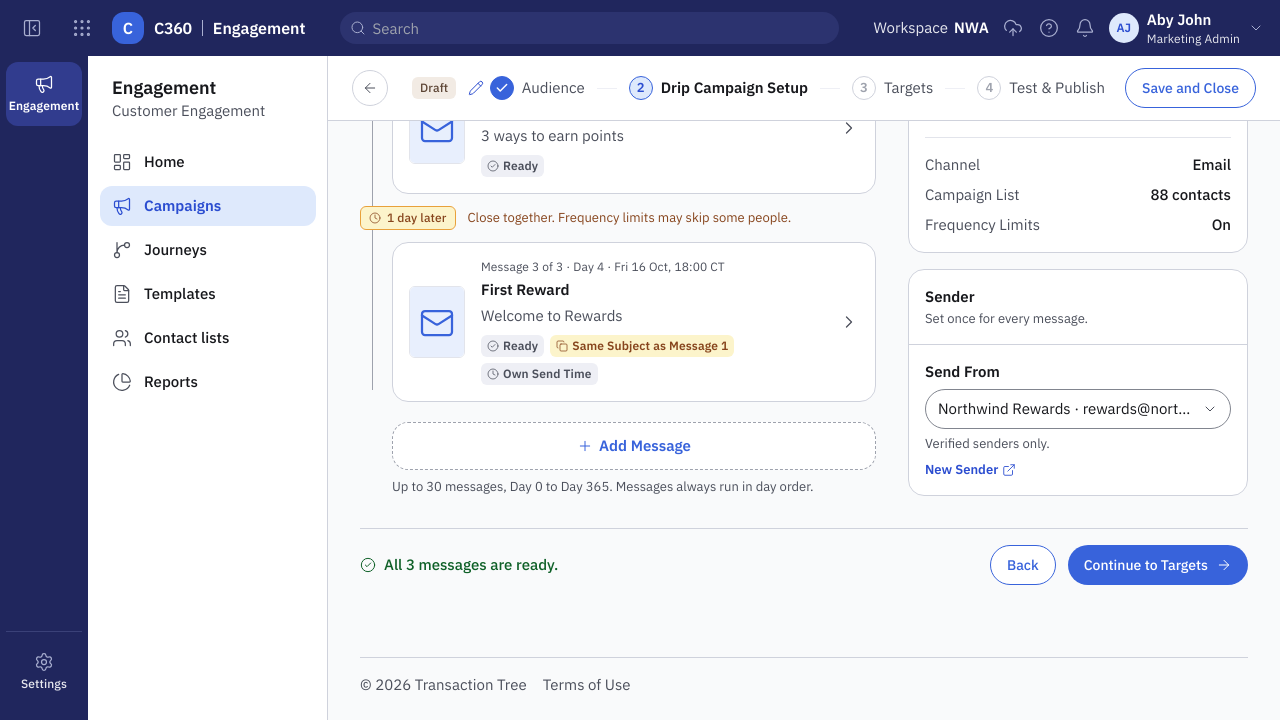
Test: Add Message: a copy of the last by default; its drawer opens with the subject kept
(page scrolled)
Click the button "Add Message". click: (634, 446)
box: left=392, top=422, right=876, bottom=470
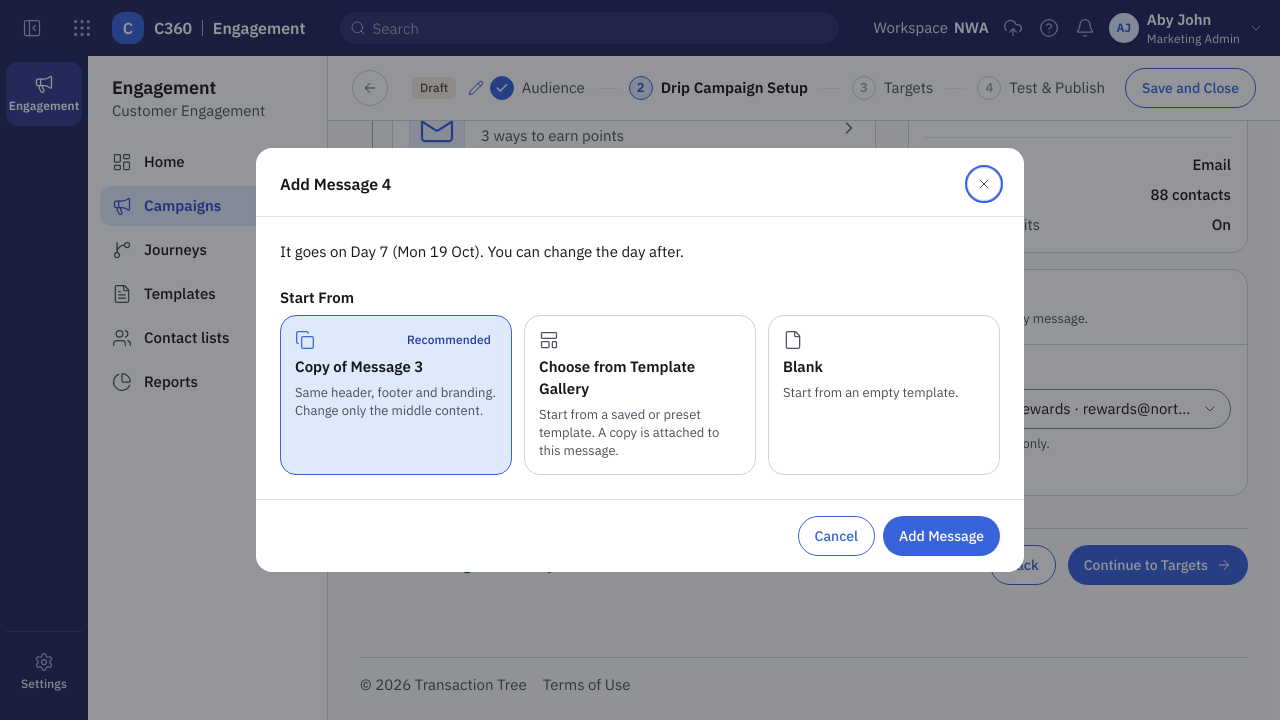
Now the text "It goes on Day 7 (Mon 19 Oct). You can change the day after." is shown, box left=280, top=242, right=684, bottom=261
Now the text "Recommended" is shown, box left=401, top=330, right=497, bottom=350
Click the button "Add Message". click: (942, 536)
box: left=883, top=516, right=1000, bottom=556
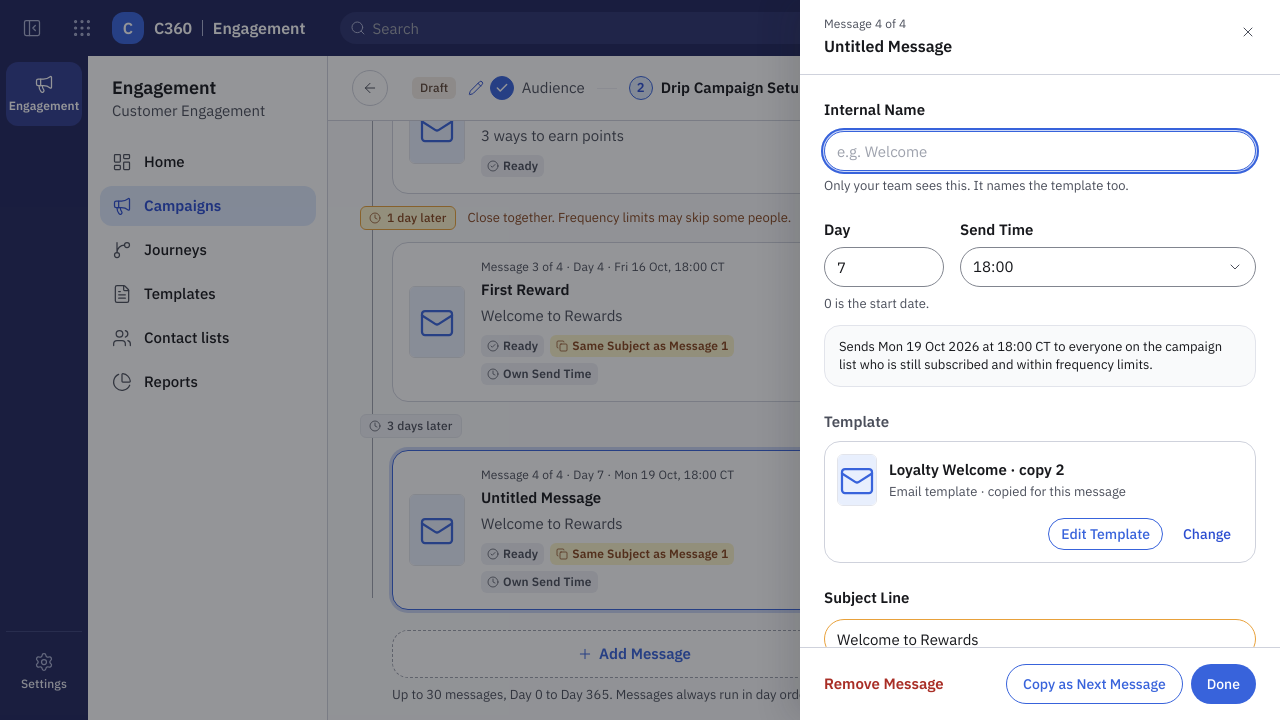
Now the text "Message 4 of 4" is shown, box left=824, top=16, right=906, bottom=31
Now the field labelled "Subject Line" holds "Welcome to Rewards", box left=824, top=619, right=1256, bottom=647
